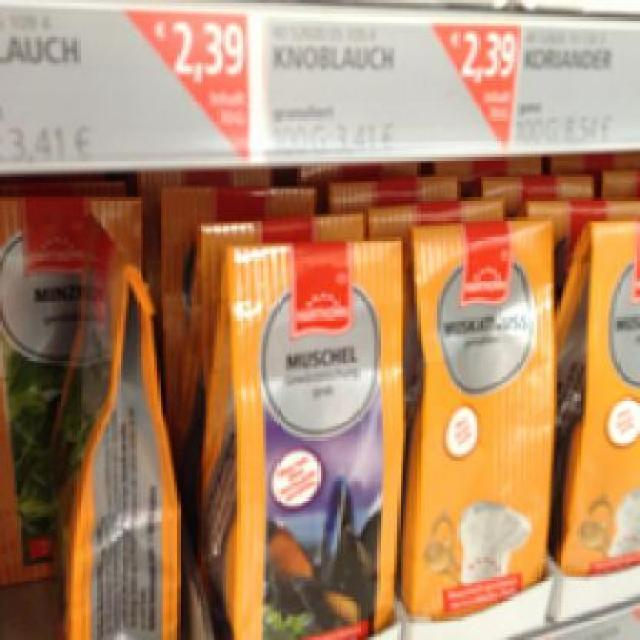Spices: (194, 234, 403, 637), (402, 214, 555, 623), (43, 208, 186, 638)
